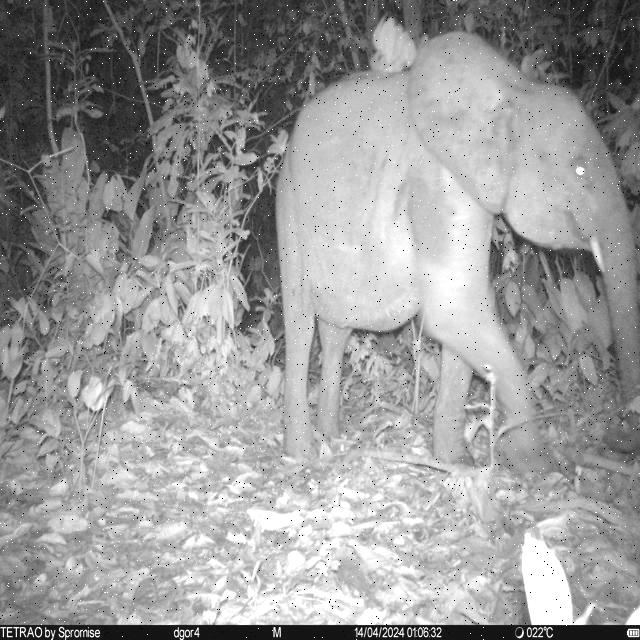ear: (408, 31, 522, 220)
elephant: (273, 29, 640, 472)
tusk: (586, 237, 608, 271)
